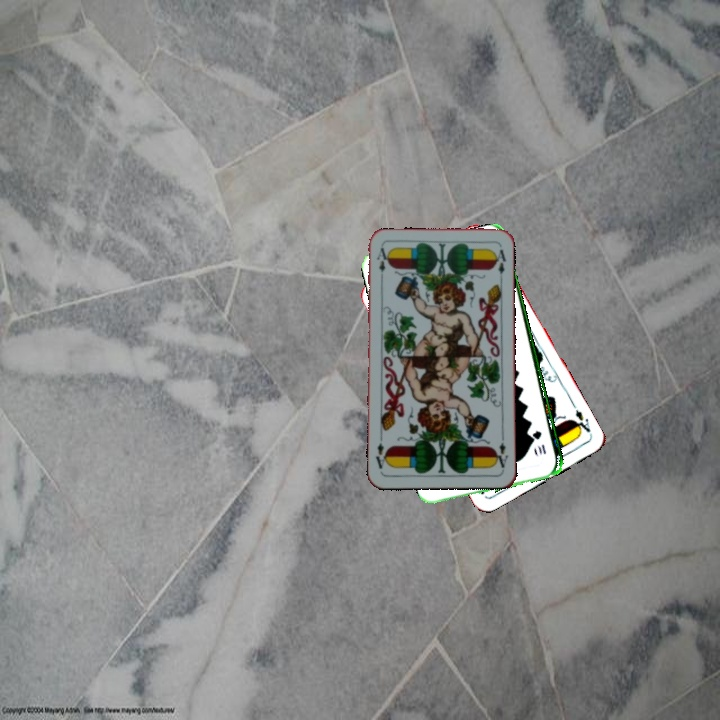EA: (568, 405, 593, 437), (491, 431, 510, 470), (373, 244, 389, 284)
G10: (531, 426, 549, 457)
